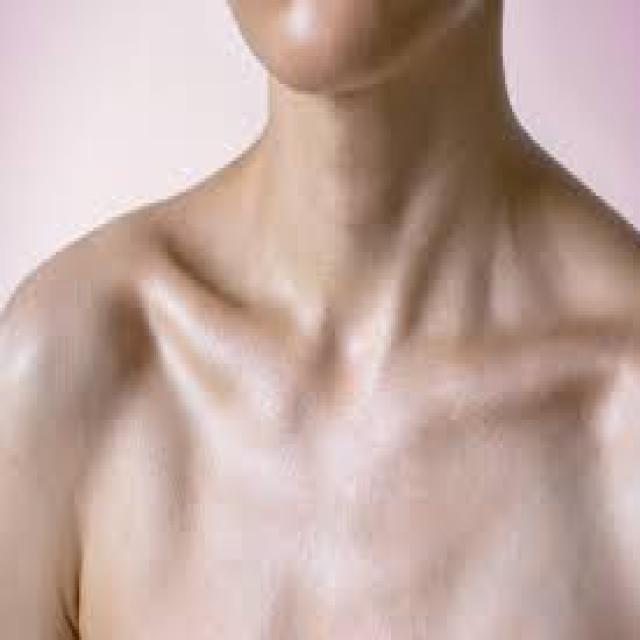Healthy: (173, 0, 589, 326)
